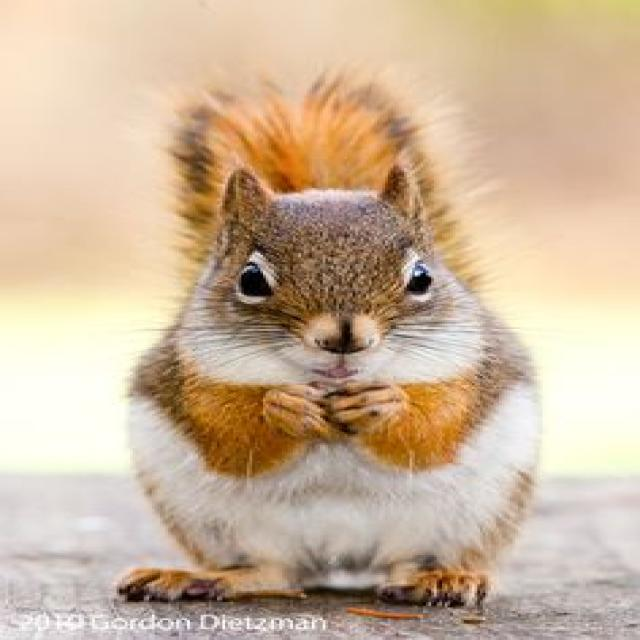Herbivorous: (117, 69, 542, 604)
